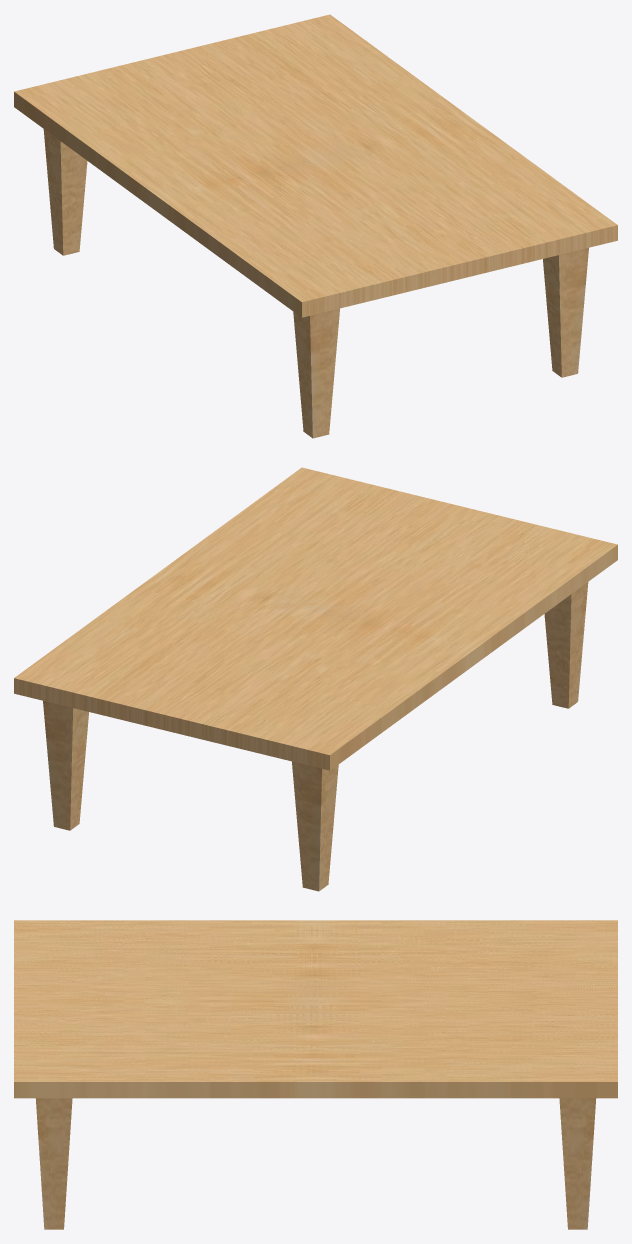
The model's file is Mesa.fbx.
3 renders of one model, top to bottom at view 1: azimuth 30°, elevation 25°; view 2: azimuth 150°, elevation 25°; view 3: azimuth 270°, elevation 25°, orthographic. The views are drawn at different scales.
Parts seen in each view (by area): view 1: Plane; view 2: Plane; view 3: Plane.
Boxes of the visible parts, x1=… form: Plane: x1=14, y1=14, x2=617, y2=438; Plane: x1=14, y1=467, x2=617, y2=891; Plane: x1=14, y1=920, x2=617, y2=1229.
Bounding box in the file's own units: 251 × 116 × 396.
Materials: 1 (1 with a texture image).
